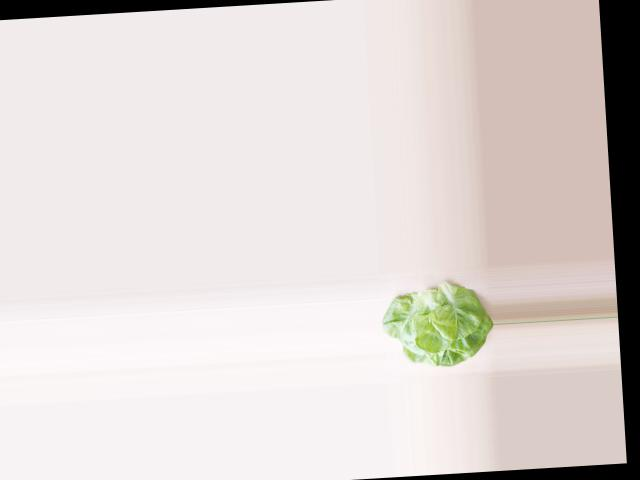lettuce: (383, 282, 493, 370)
